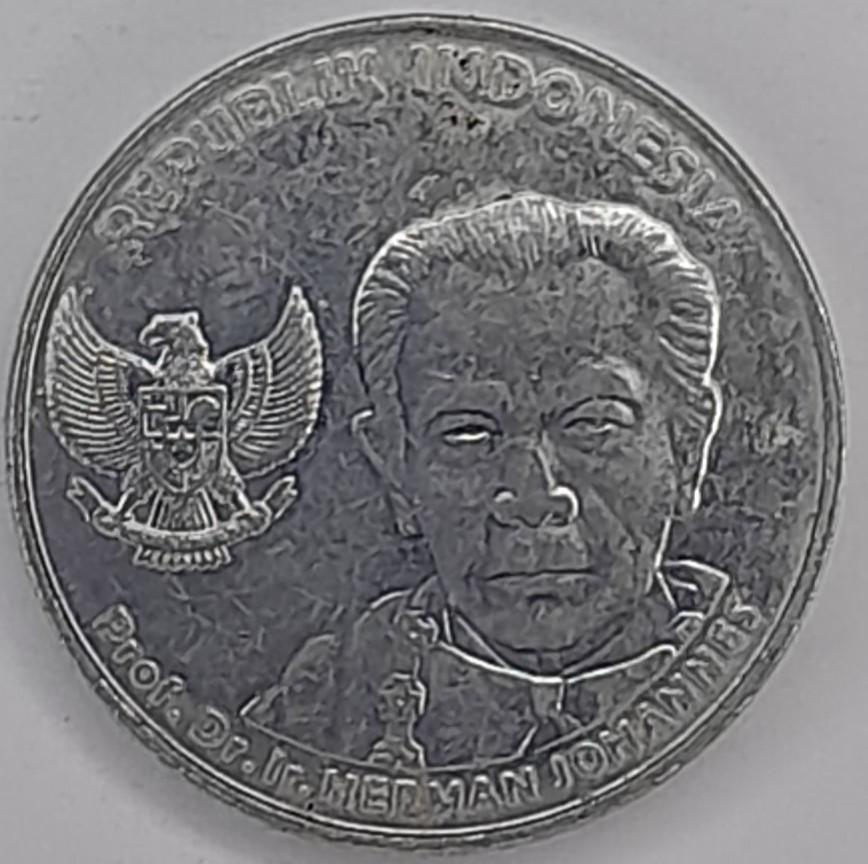coin_100_e2016: (0, 6, 852, 855)
